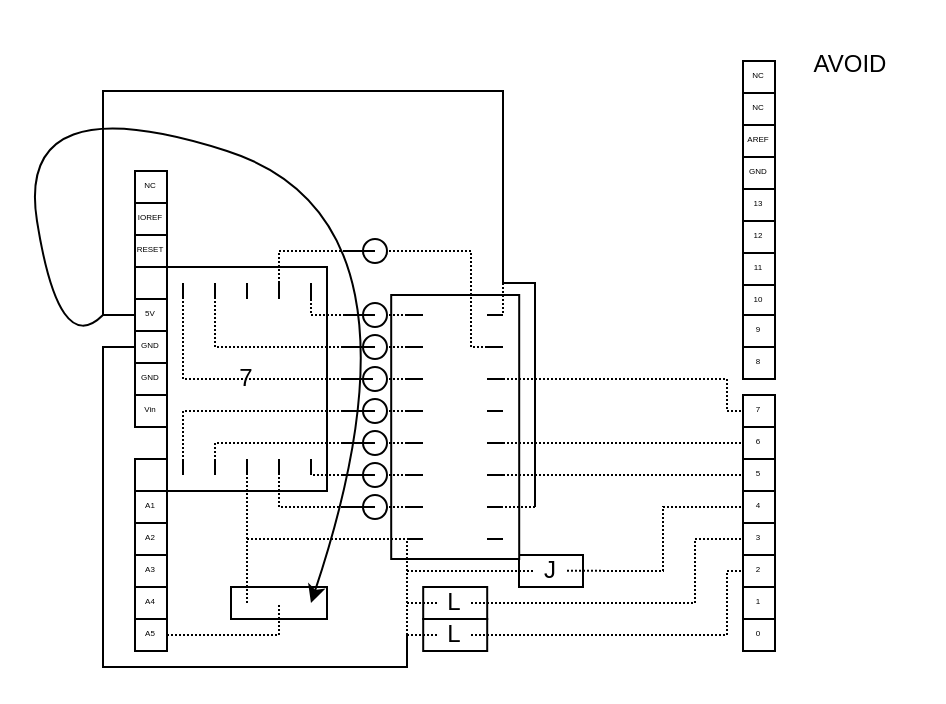
Some shapes in this 946 by 704 pixel diagram are drawn without their labels. Each missing label, with the box of its shape:
3.3V: (133, 265, 167, 299)
74HC595: (389, 293, 519, 559)
A0: (133, 457, 167, 491)
POT: (229, 585, 327, 619)
